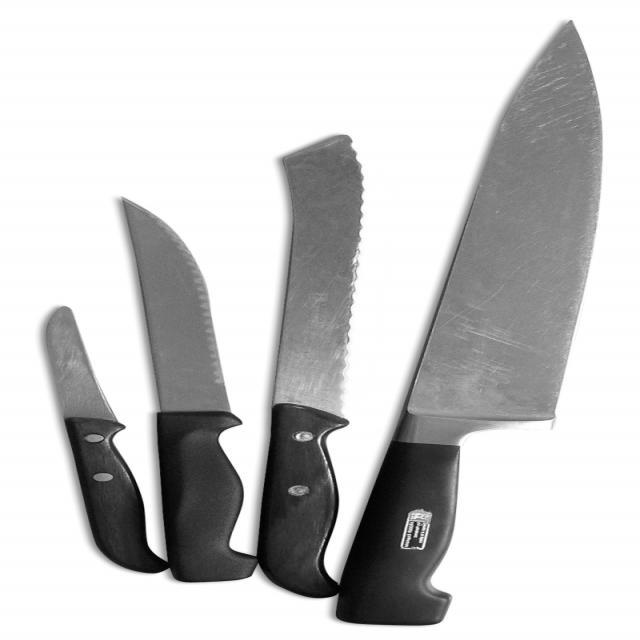knife: (347, 14, 606, 638), (121, 193, 253, 594), (265, 120, 361, 599), (38, 299, 147, 583)
